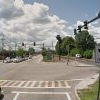crosswalk: (0, 79, 69, 87)
